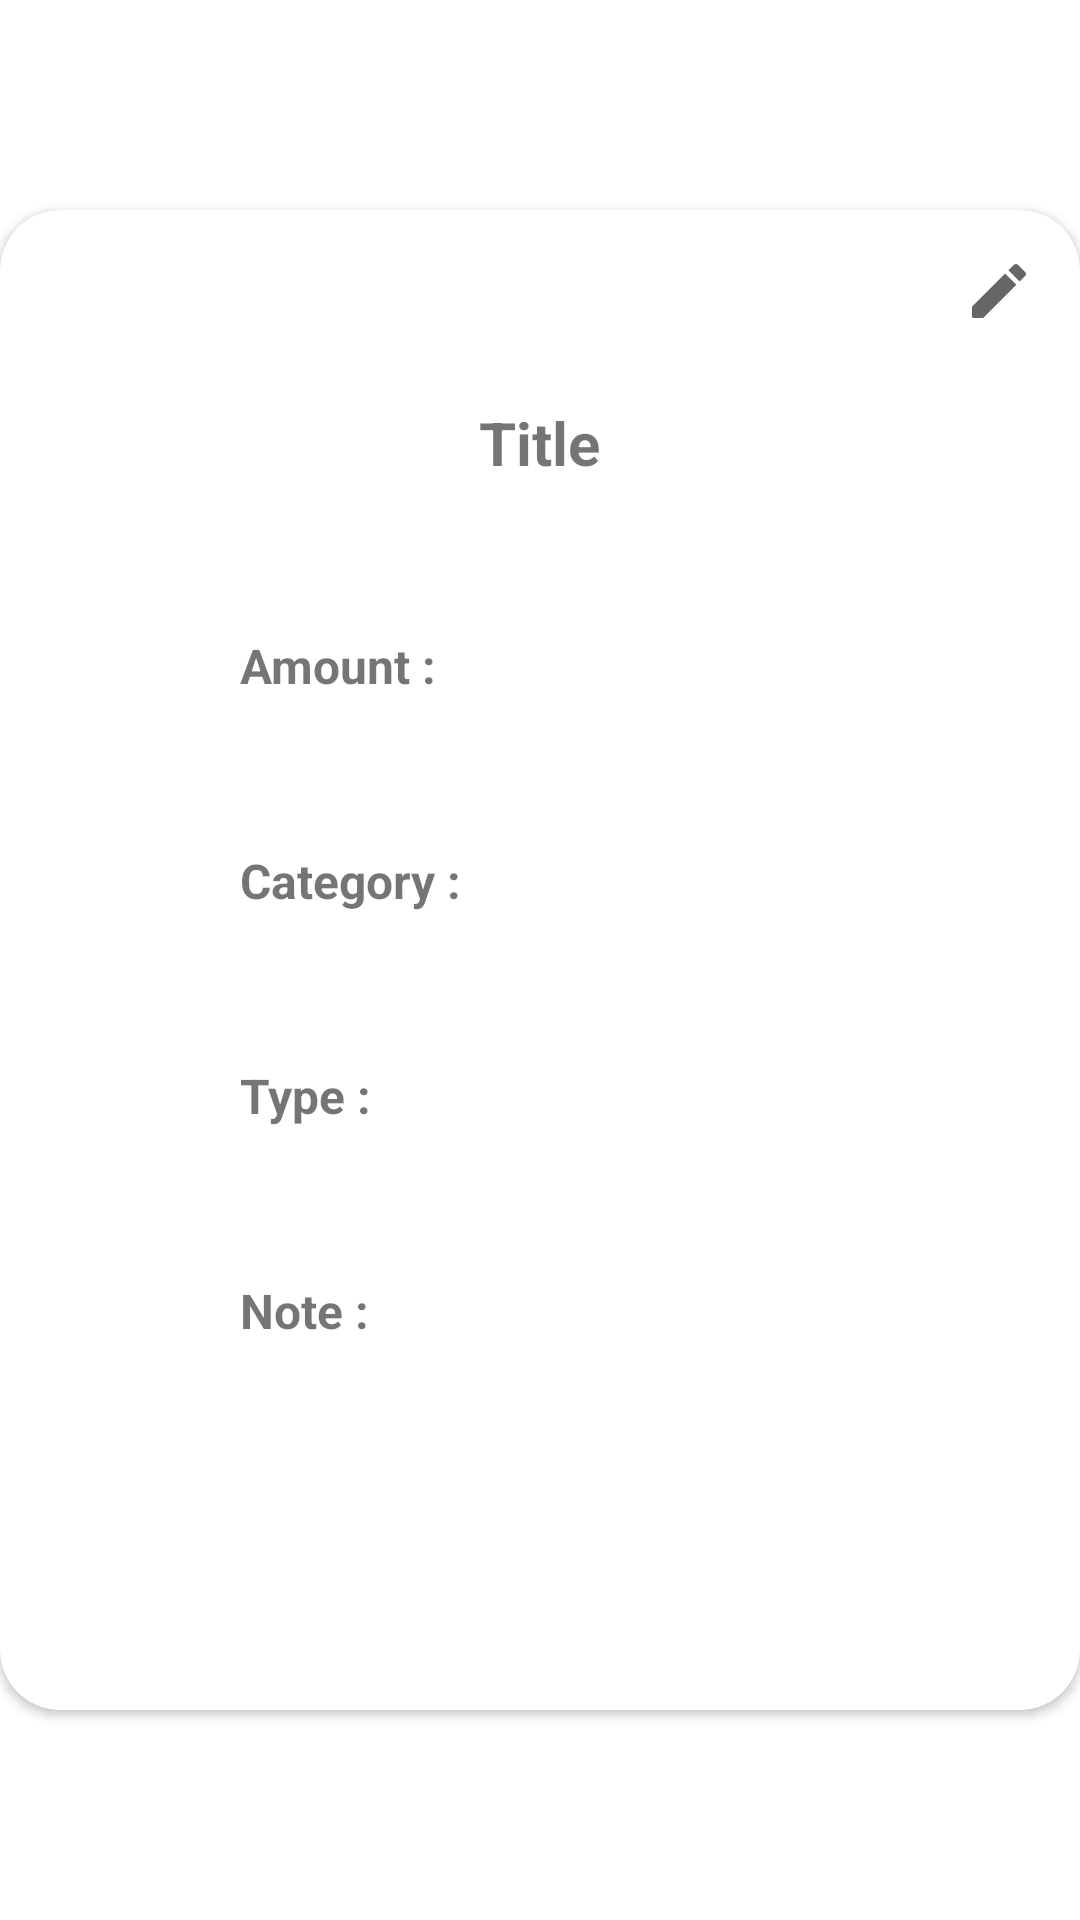

Where to tap for icons on this 1080w x 1920h app screen, as (x=x, y=y):
edit: (x=999, y=291)
